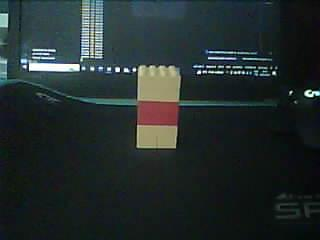lego: (136, 65, 180, 149)
